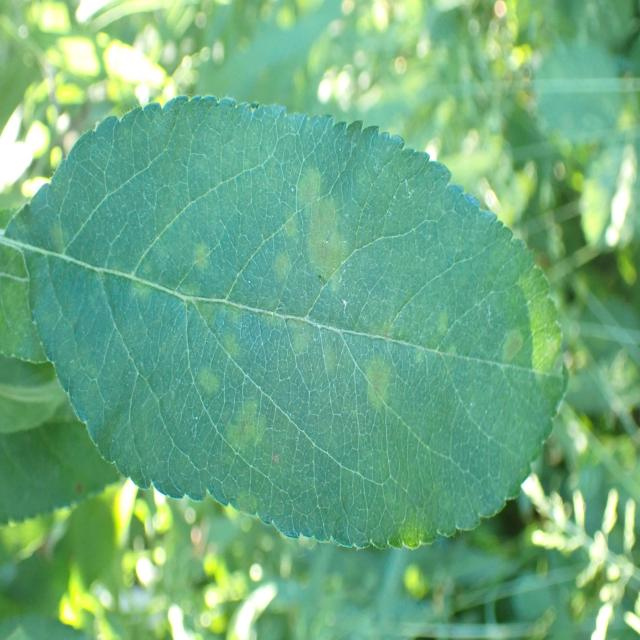scab: (43, 145, 538, 529)
